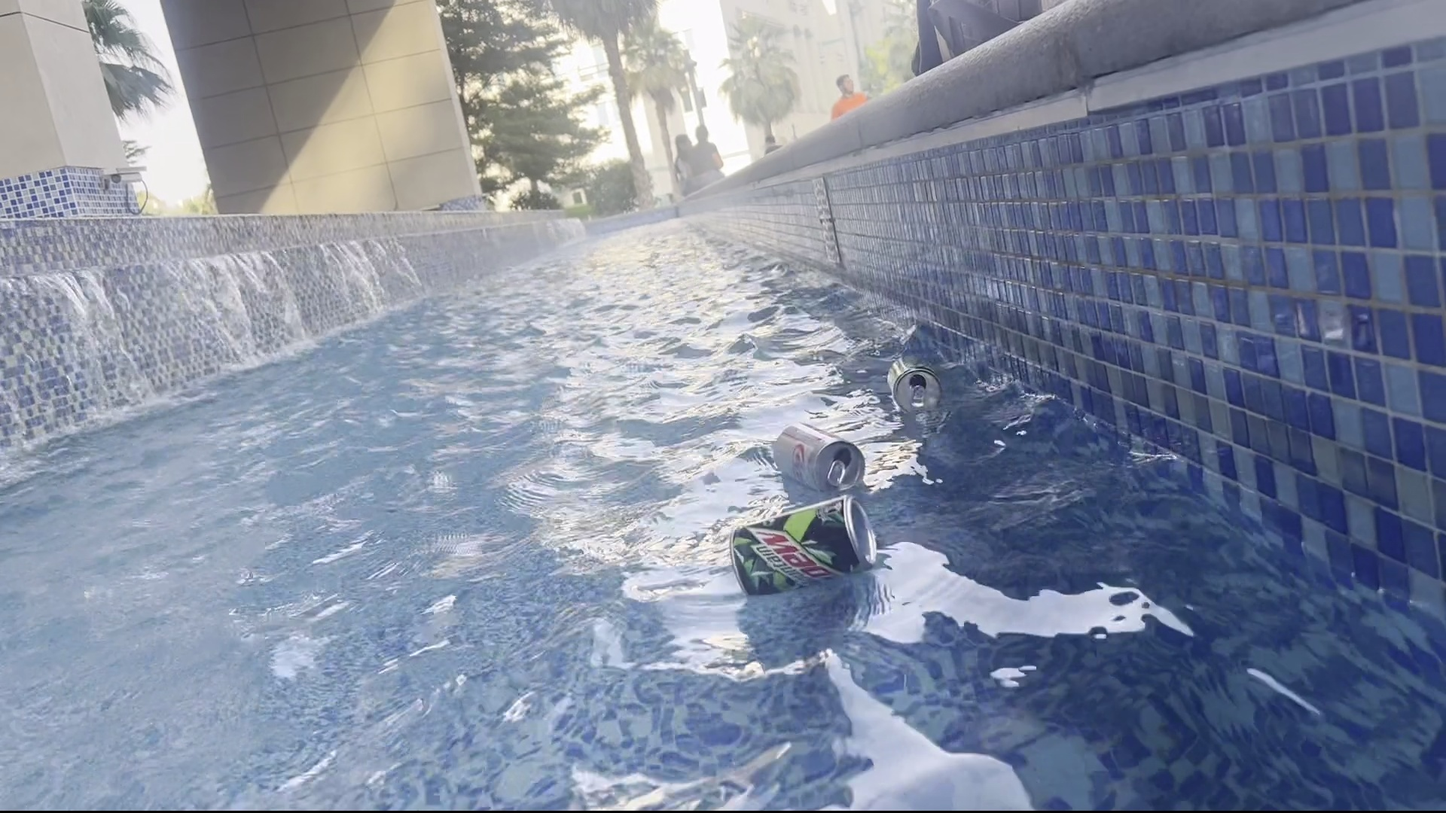debris: (718, 486, 889, 599), (761, 420, 865, 497), (878, 351, 949, 416)
